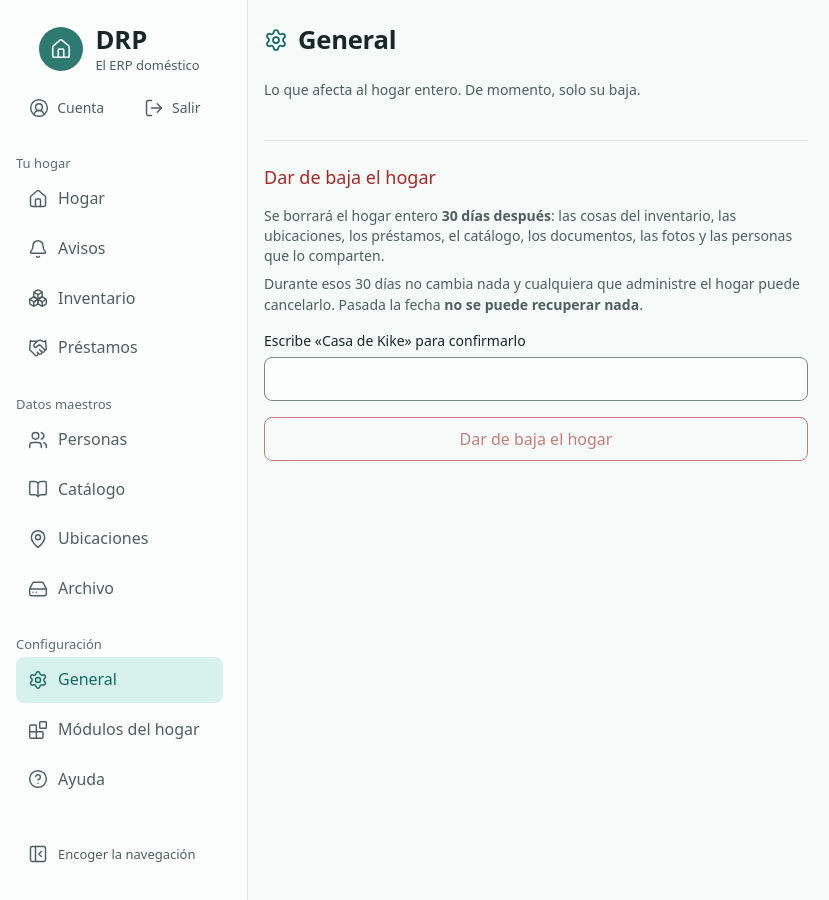
Test: la zona de peligro de la baja del hogar › el botón está deshabilitado hasta que lo escrito coincide exacto
Check: the navigation bar named "Principal" is shown, box [16,154,223,802]
Check: the heading "Dar de baja el hogar" is shown, box [264,165,436,189]
Type "Casa de" into the field labelled "Escribe «Casa de Kike» para confirmarlo" at [536, 379], box [264,357,808,401]
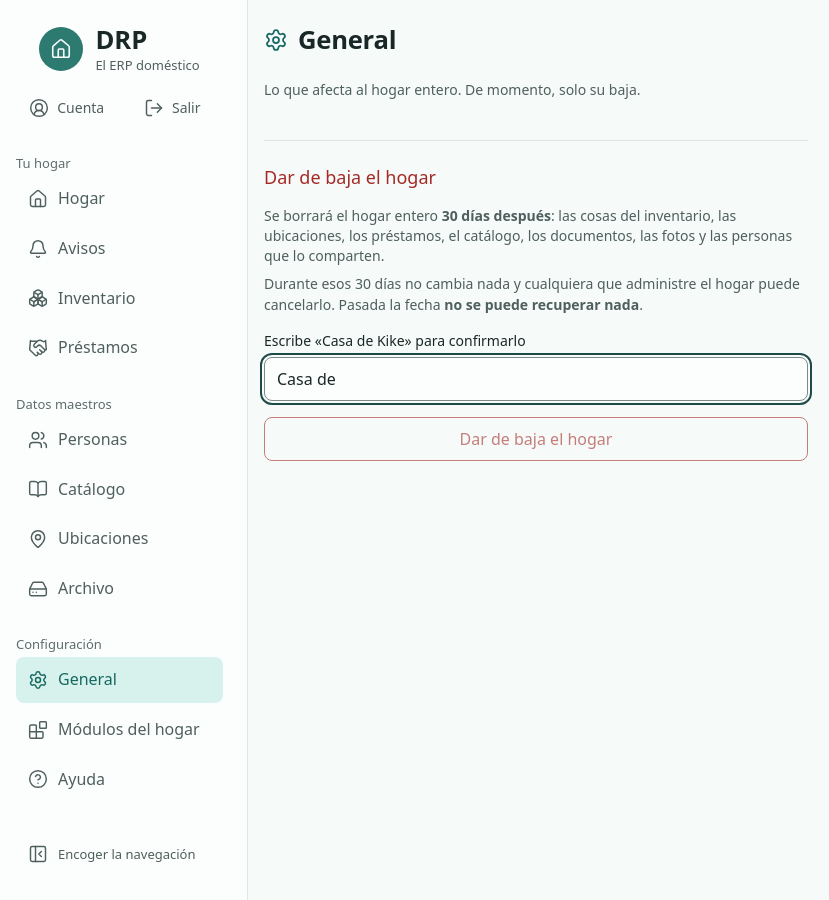
Check: the button "Dar de baja el hogar" is disabled, box [264,417,808,461]
Replace the text in the field labelled "Escribe «Casa de Kike» para confirmarlo" with "casa de kike" at [536, 379], box [264,357,808,401]
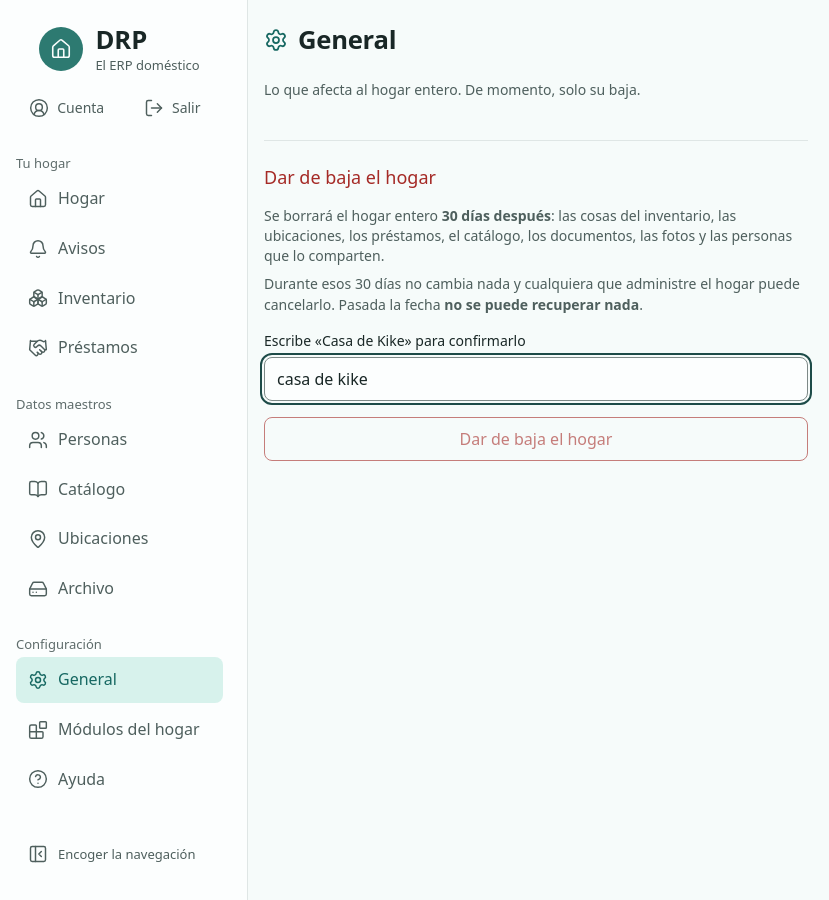
Check: the button "Dar de baja el hogar" is disabled, box [264,417,808,461]
Replace the text in the field labelled "Escribe «Casa de Kike» para confirmarlo" with "Casa de Kike" at [536, 379], box [264,357,808,401]
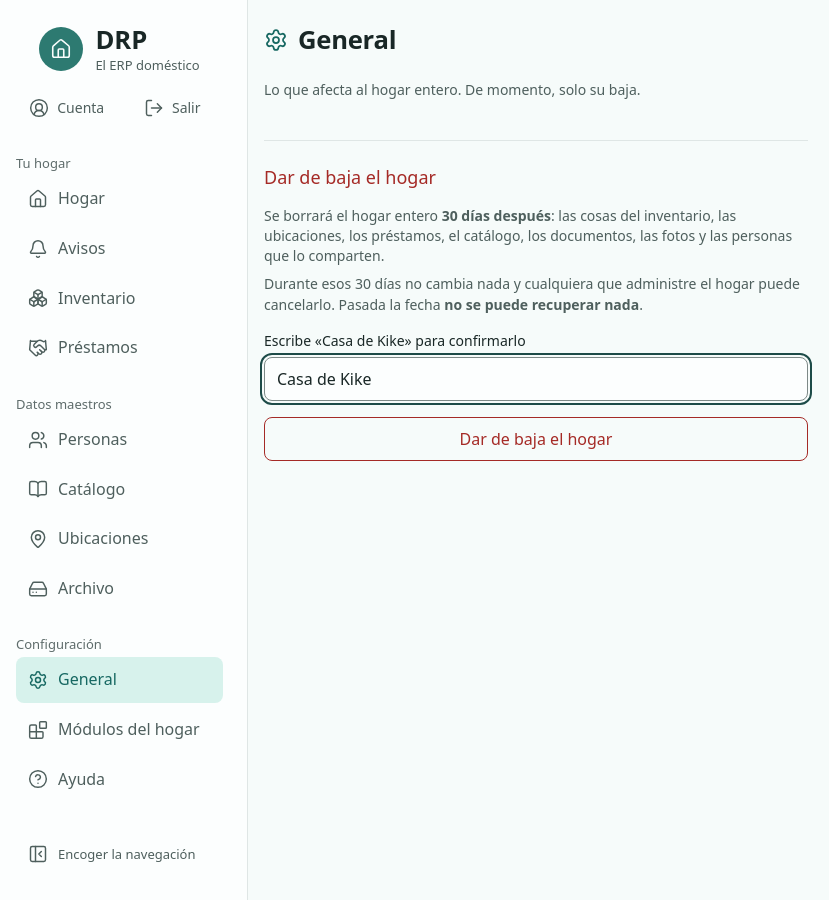
Check: the button "Dar de baja el hogar" is enabled, box [264,417,808,461]
